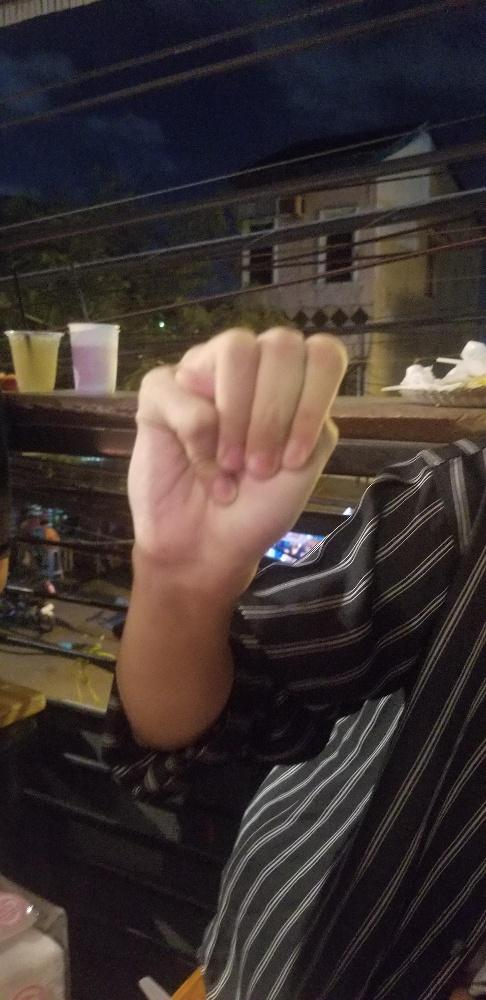m: (123, 324, 351, 579)
